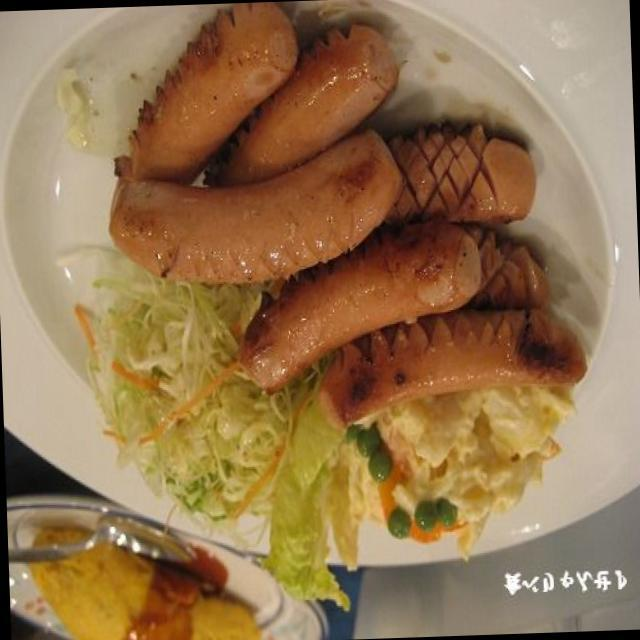Green Salad: (98, 294, 336, 562)
Sausage: (122, 0, 589, 406)
